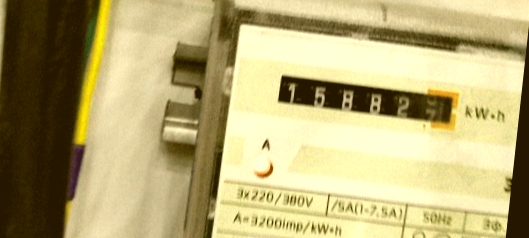1: (281, 80, 298, 103)
2: (391, 94, 410, 120)
5: (309, 83, 325, 109)
7: (421, 104, 435, 123)
8: (364, 91, 381, 117), (337, 88, 352, 112)
screen: (264, 64, 466, 141)
